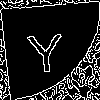Y: (25, 24, 67, 73)
